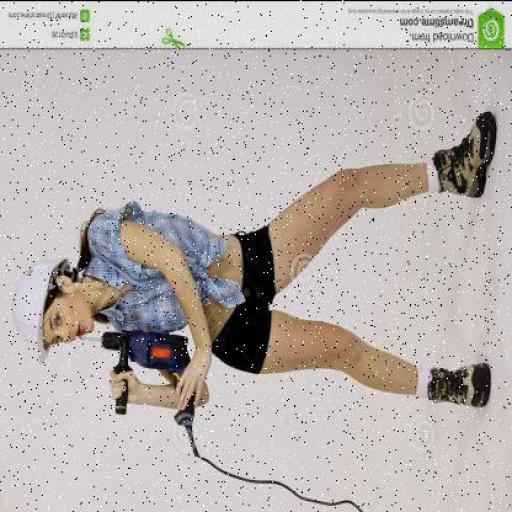person: (11, 110, 501, 433)
safety_shoe: (436, 108, 502, 203), (424, 353, 492, 408)
